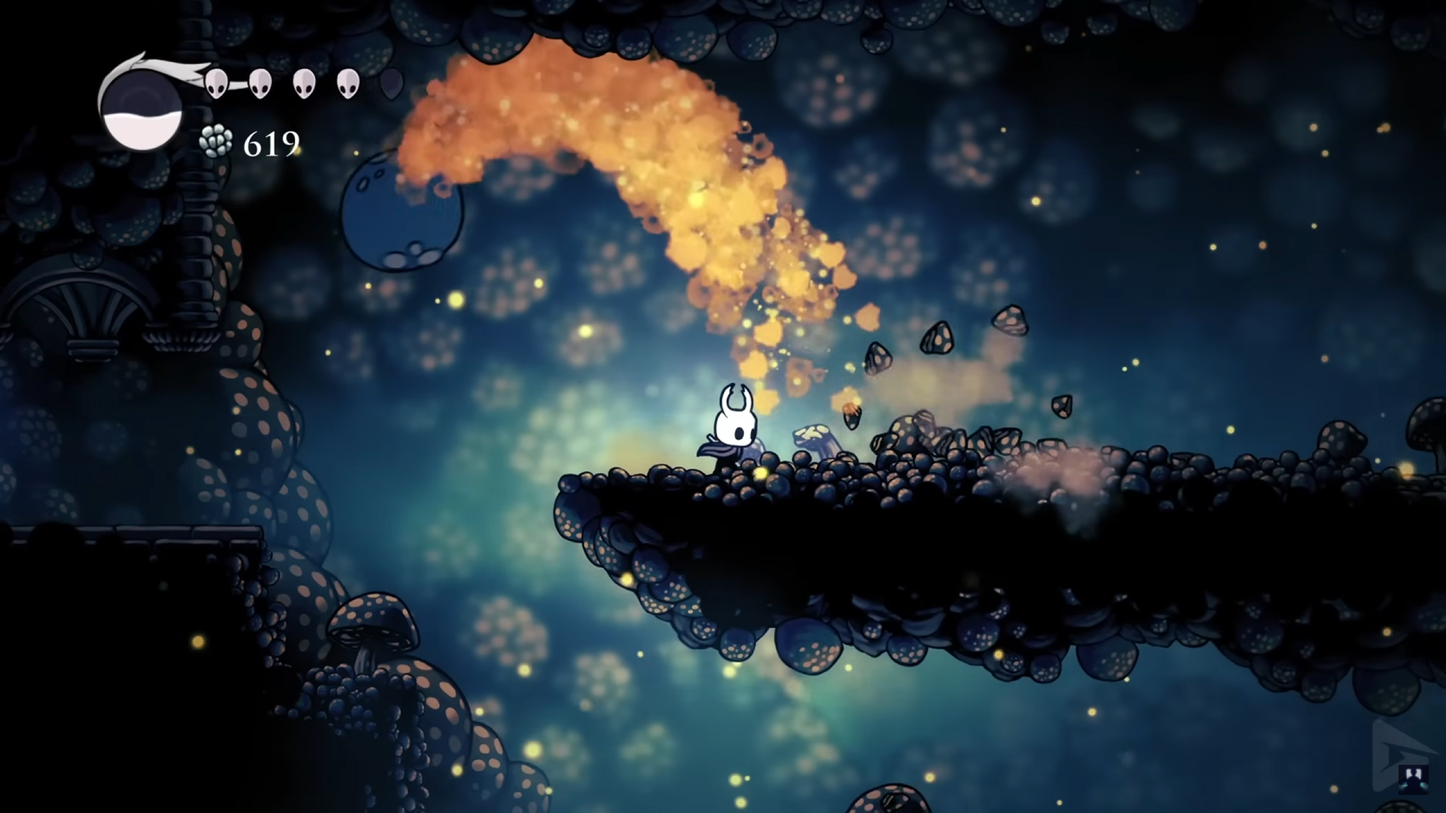HK: (700, 380, 768, 475)
